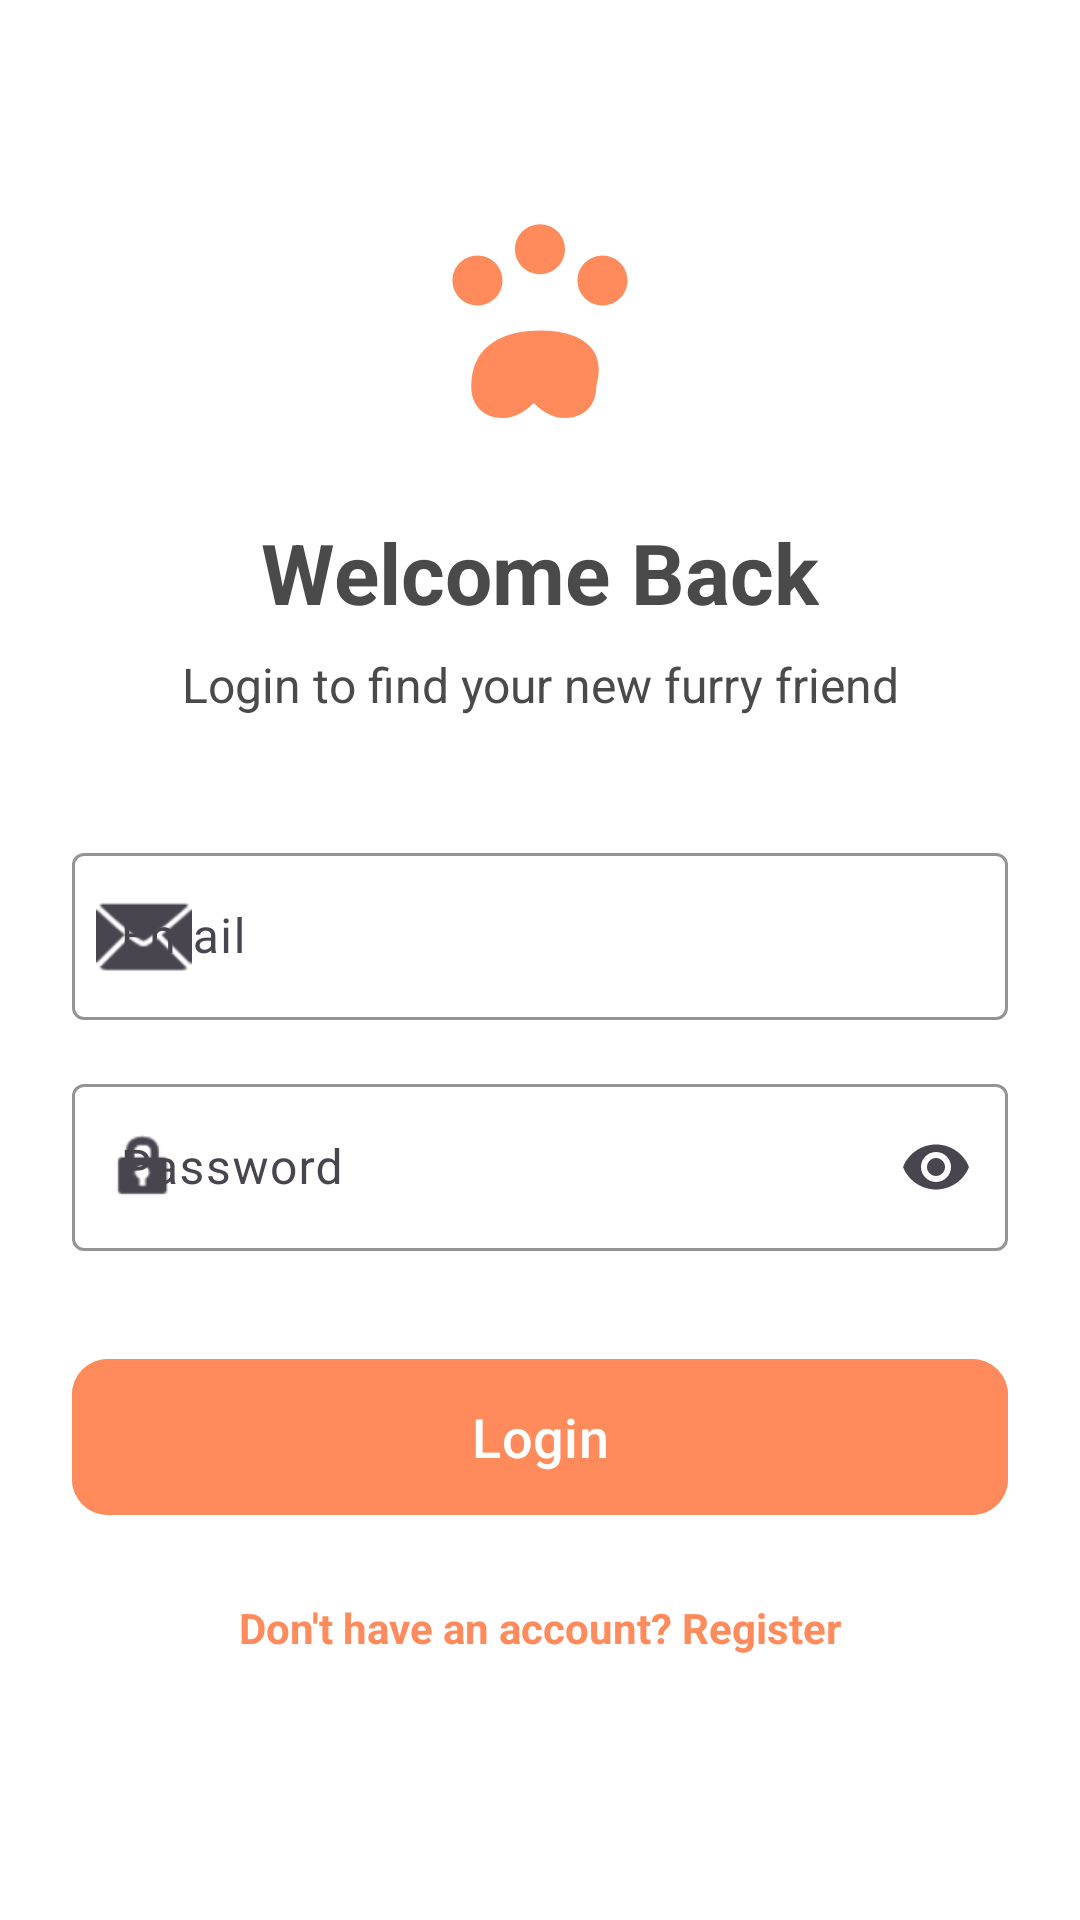

Point at icon controls on the screen. Image size 1080*1920, points as (x,y).
paw: (540,321)
